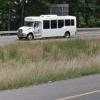Bus: (21, 9, 81, 40)
